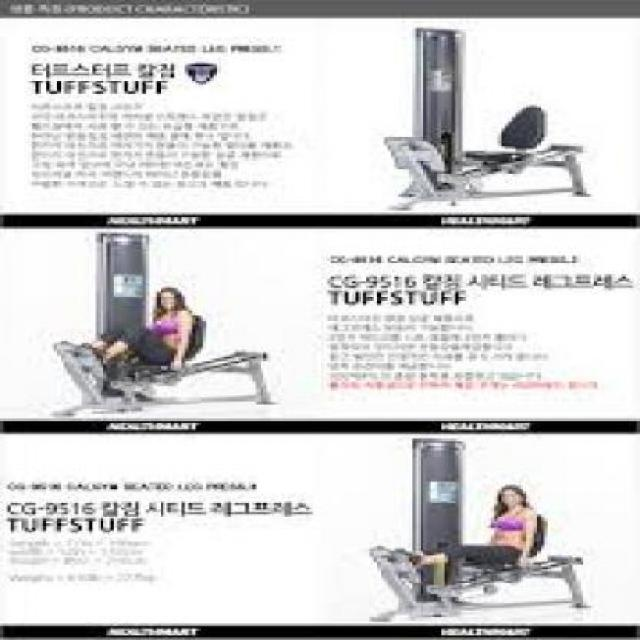leg press: (340, 20, 640, 218)
